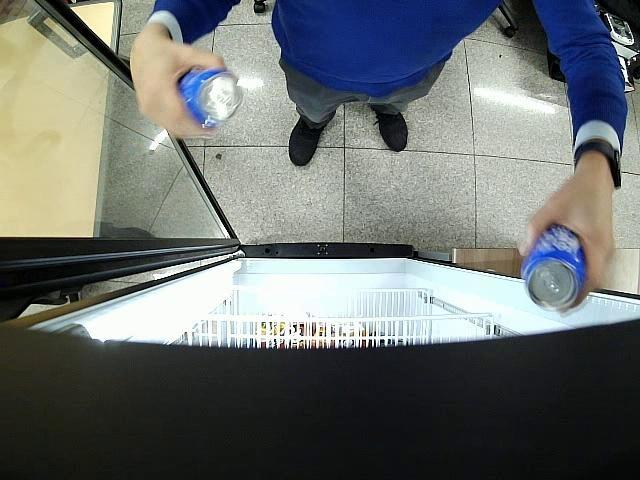13_pocariSweat: (522, 224, 585, 312), (179, 70, 244, 130)
